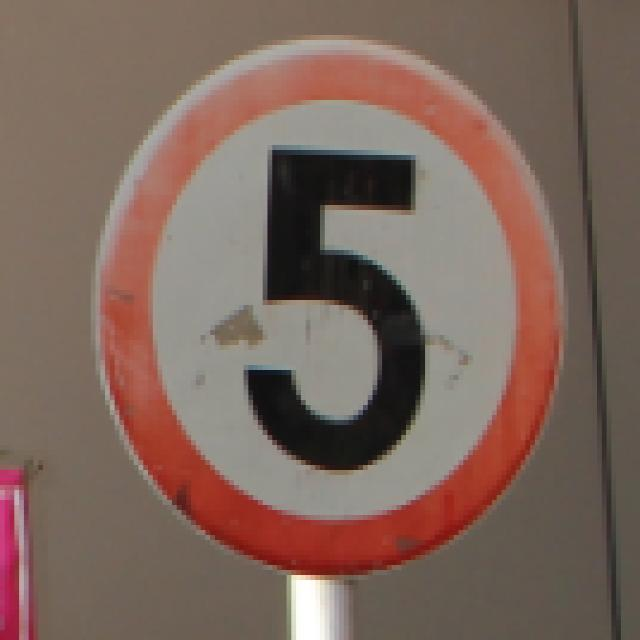speed limit 10: (91, 39, 566, 579)
